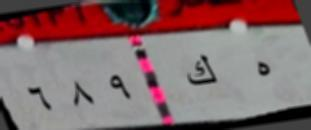6: (25, 80, 57, 115)
8: (68, 75, 95, 113)
9: (107, 65, 136, 106)
haa: (249, 50, 274, 87)
kaaf: (181, 51, 219, 99)
